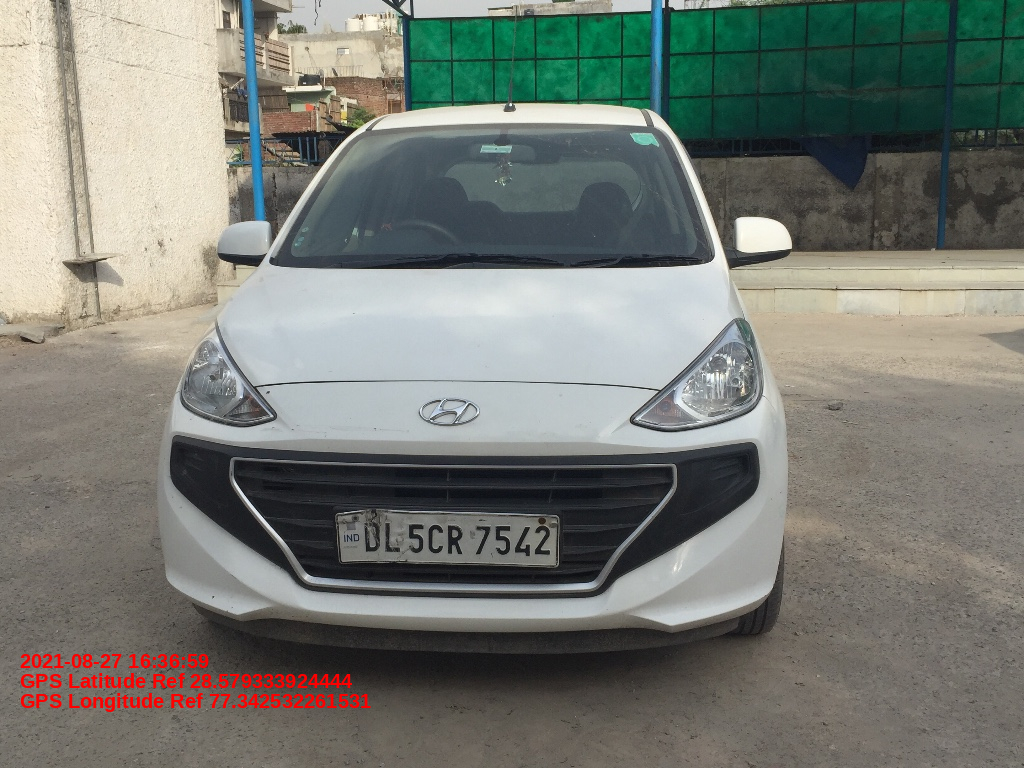Scratched: (260, 424, 416, 438), (260, 385, 278, 399)
